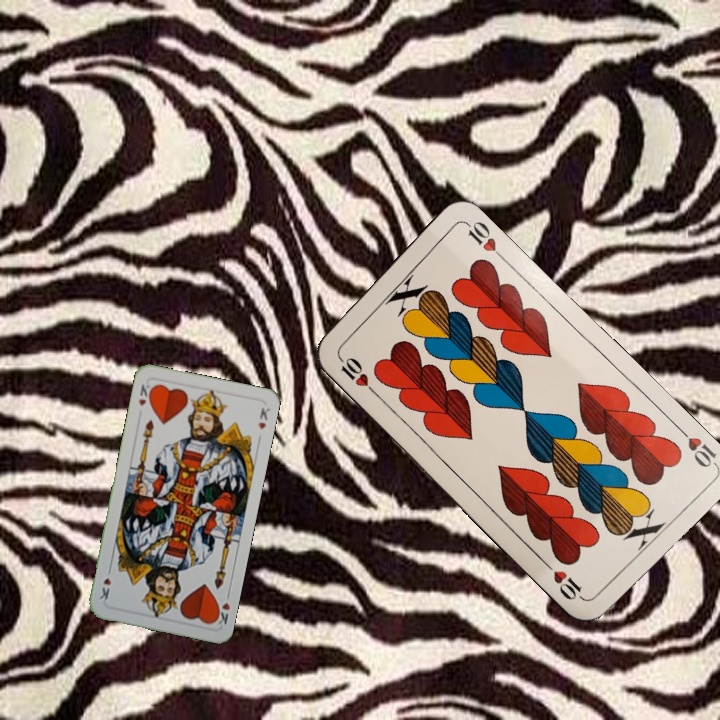H10: (672, 421, 719, 471), (333, 351, 380, 397)
HK: (210, 588, 233, 627), (134, 380, 155, 409)
